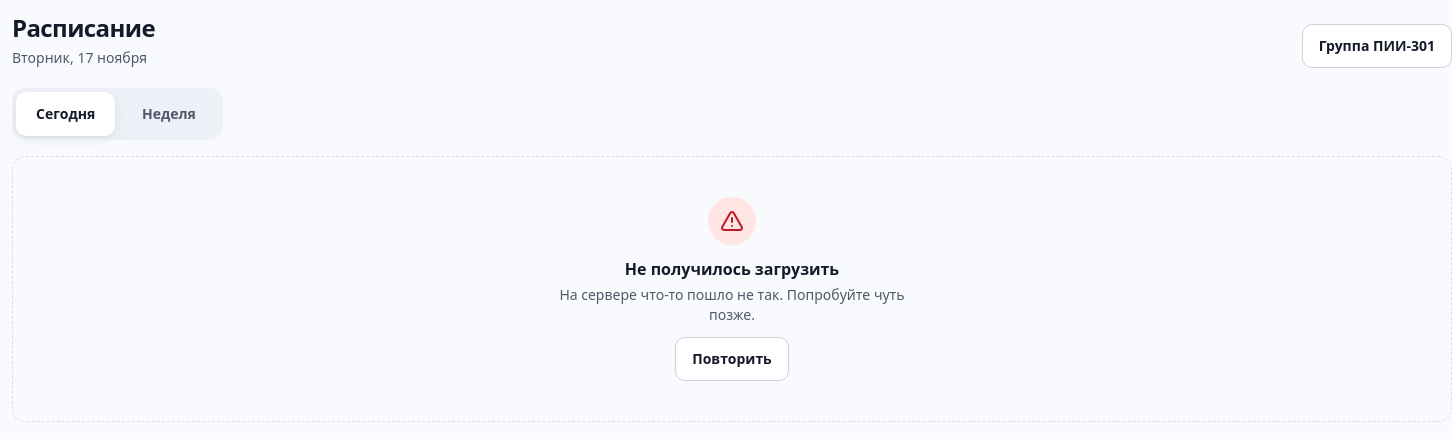
Test: SchedulePage › ошибка — сообщение и «Повторить», после повтора данные на месте
Expected: the text "Не получилось загрузить" is shown, [625,258,839,280]
Click the button "Повторить".
click(732, 359)  # box [675,337,789,381]
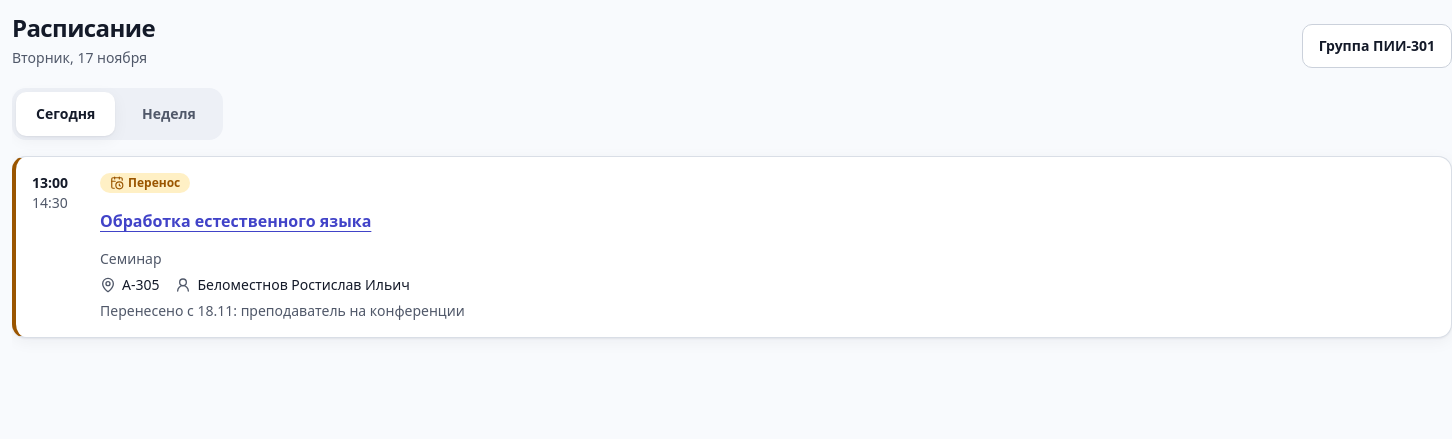
Now the heading "Обработка естественного языка" is shown, box [100,210,371,232]
